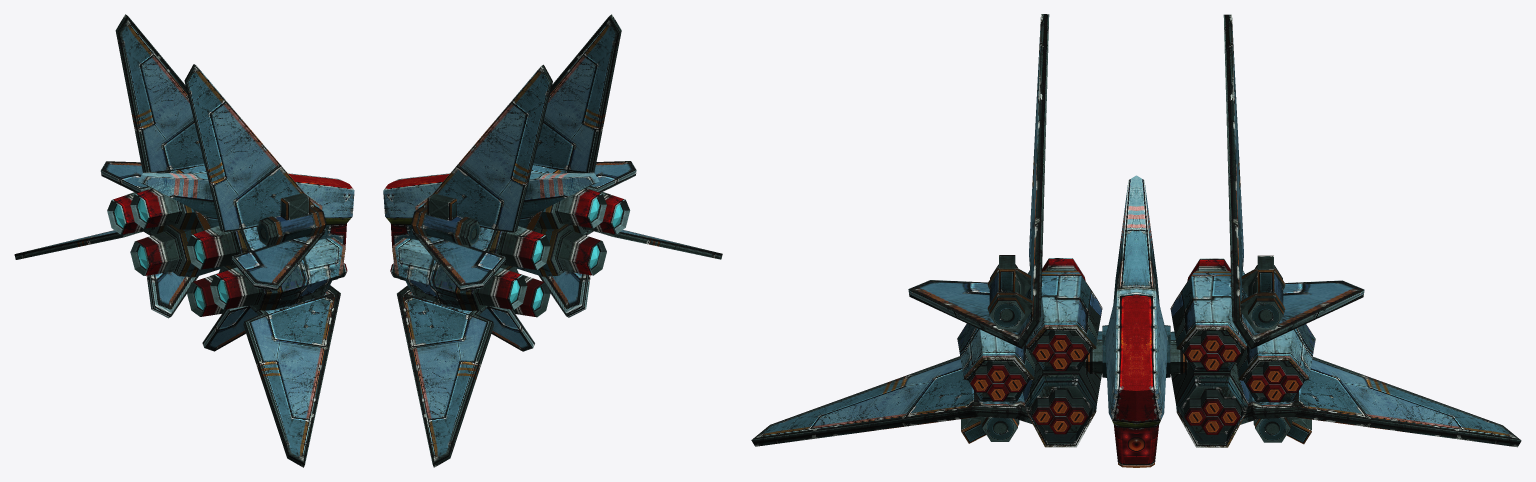
The model's file is drone_H.FBX.
The picture shows the model from 3 angles, left to right: view 1: azimuth 30°, elevation 25°; view 2: azimuth 150°, elevation 25°; view 3: azimuth 270°, elevation 25°; orthographic projection. The views are drawn at different scales.
Parts seen in each view (by area): view 1: drone_H; view 2: drone_H; view 3: drone_H.
Part boxes in pixels (x1,y1,x2,y2): drone_H: (14,14,354,467); drone_H: (383,14,722,467); drone_H: (751,14,1521,467).
Bounding box in the file's own units: 153 × 360 × 223.
1 material, 1 textured.
